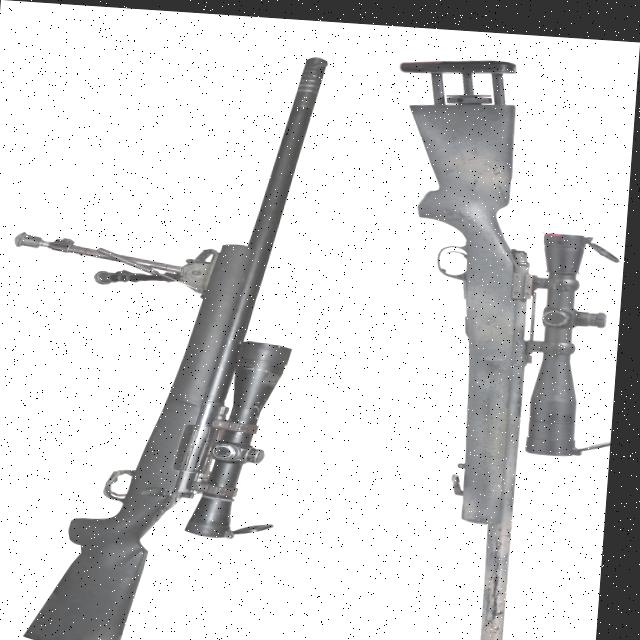firearm: (0, 38, 328, 640), (363, 48, 638, 640)
